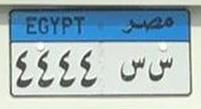4: (56, 47, 77, 91), (78, 46, 98, 91), (34, 49, 55, 91), (13, 48, 33, 92)
seen: (118, 53, 146, 86), (148, 56, 174, 86)
